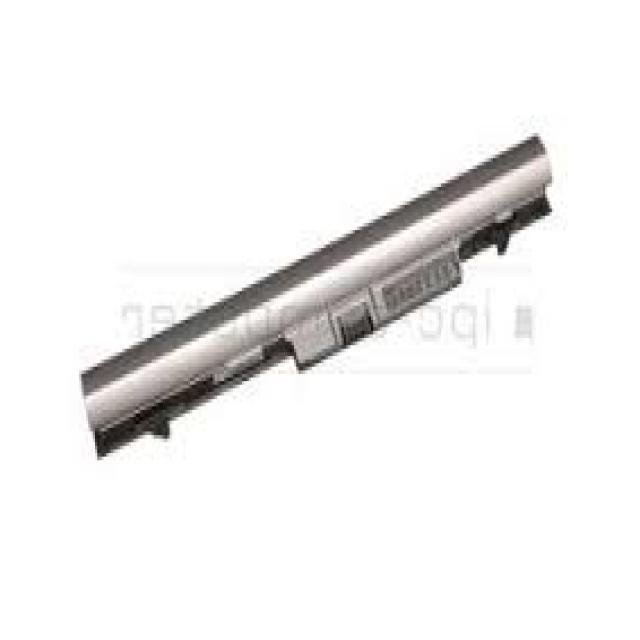battery: (82, 129, 556, 464)
